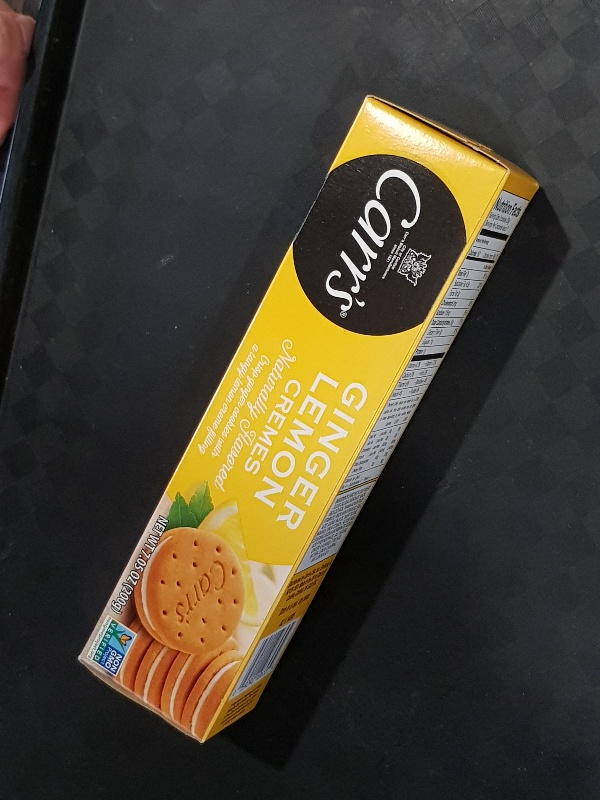Carr's Ginger Lemon Cremes: (77, 92, 541, 744)
